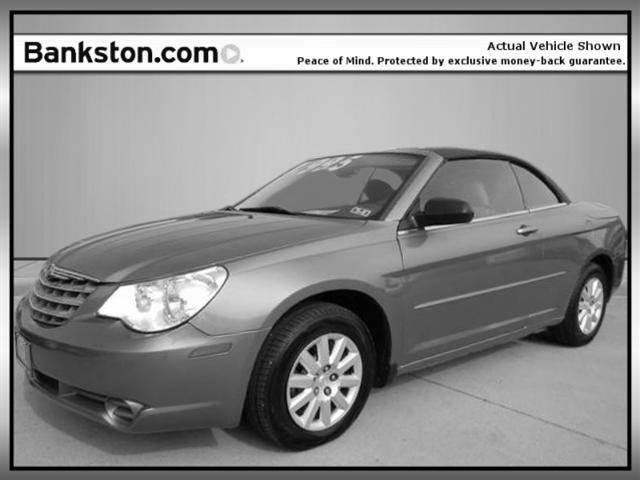car: (15, 150, 626, 452)
